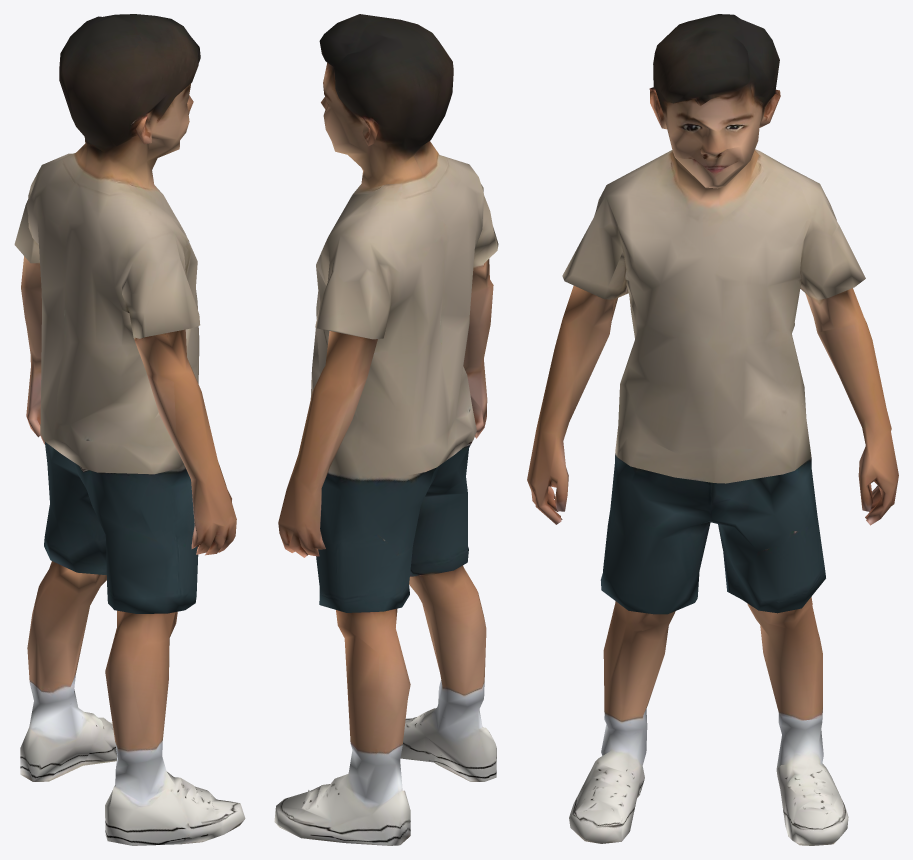
File: person-child.glb
The picture shows the model from 3 angles, left to right: view 1: azimuth 30°, elevation 25°; view 2: azimuth 150°, elevation 25°; view 3: azimuth 270°, elevation 25°; orthographic projection. The views are drawn at different scales.
Parts seen in each view (by area): view 1: tripo_node_a92f57fb-7d3f-4dbc-b12d-2ed8044f91c3; view 2: tripo_node_a92f57fb-7d3f-4dbc-b12d-2ed8044f91c3; view 3: tripo_node_a92f57fb-7d3f-4dbc-b12d-2ed8044f91c3.
Part boxes in pixels (<box>): tripo_node_a92f57fb-7d3f-4dbc-b12d-2ed8044f91c3: <box>14,14,245,845</box>; tripo_node_a92f57fb-7d3f-4dbc-b12d-2ed8044f91c3: <box>274,14,498,845</box>; tripo_node_a92f57fb-7d3f-4dbc-b12d-2ed8044f91c3: <box>527,14,898,845</box>.
Size of the model in its own units: 0.1806 by 0.9999 by 0.4223.
Materials: 1 (1 with a texture image).
